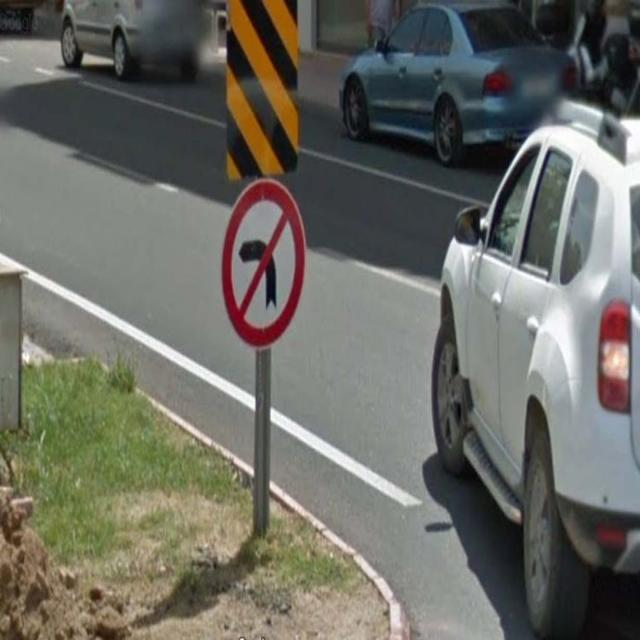soladonulmez: (221, 178, 305, 349)
